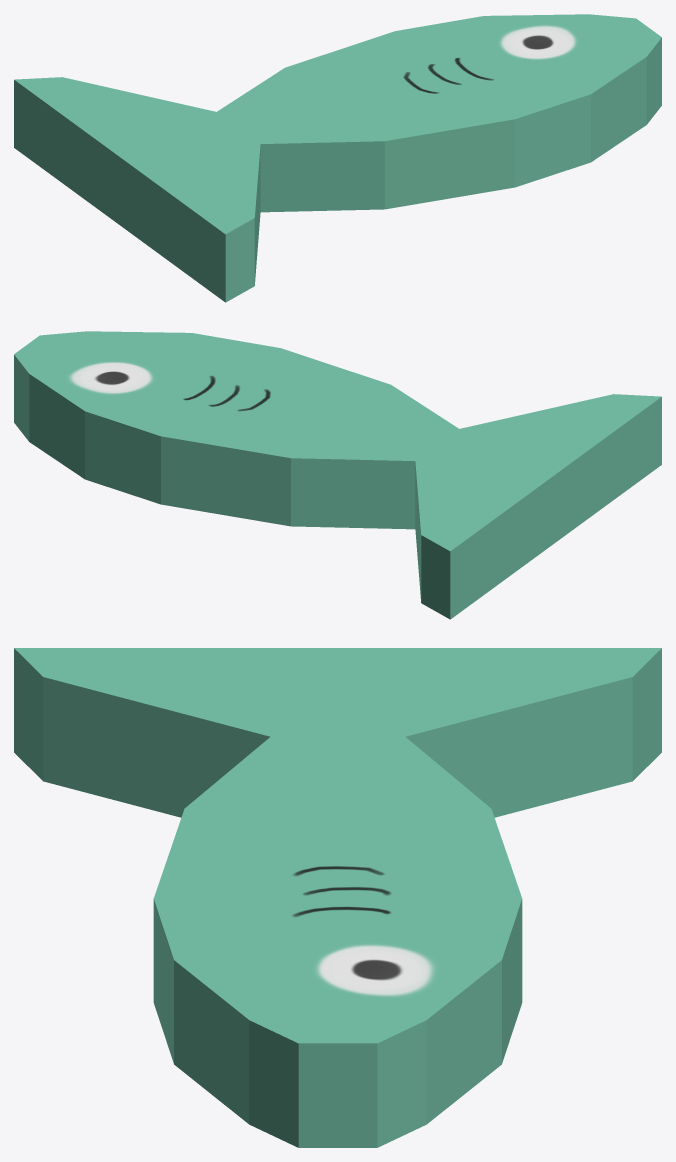
Rendered from fish.fbx.
3 renders of one model, top to bottom at view 1: azimuth 30°, elevation 25°; view 2: azimuth 150°, elevation 25°; view 3: azimuth 270°, elevation 25°, orthographic. The views are drawn at different scales.
Parts seen in each view (by area): view 1: Plane; view 2: Plane; view 3: Plane.
Boxes of the visible parts, x1,y1,x2,y2 form: Plane: [14, 14, 661, 302]; Plane: [14, 331, 661, 619]; Plane: [14, 648, 661, 1147].
Size of the model in its own units: 360 by 44.33 by 249.
